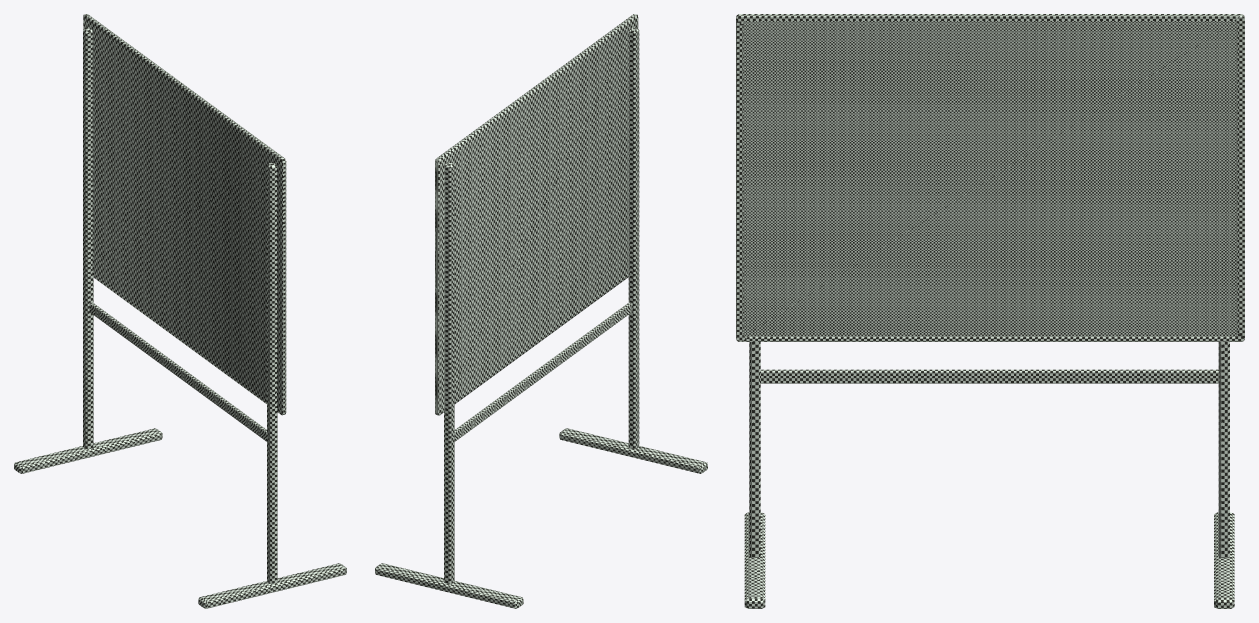
File: Whiteboard.FBX
The picture shows the model from 3 angles, left to right: view 1: azimuth 30°, elevation 25°; view 2: azimuth 150°, elevation 25°; view 3: azimuth 270°, elevation 25°; orthographic projection. The views are drawn at different scales.
Parts seen in each view (by area): view 1: Whiteboard_001; view 2: Whiteboard_001; view 3: Whiteboard_001.
Boxes of the visible parts, <box> form: Whiteboard_001: <box>14,14,346,608</box>; Whiteboard_001: <box>375,14,707,608</box>; Whiteboard_001: <box>736,14,1244,608</box>.
Bounding box in the file's own units: 0.752 × 2.18 × 1.82.
Materials: 1 (1 with a texture image).
